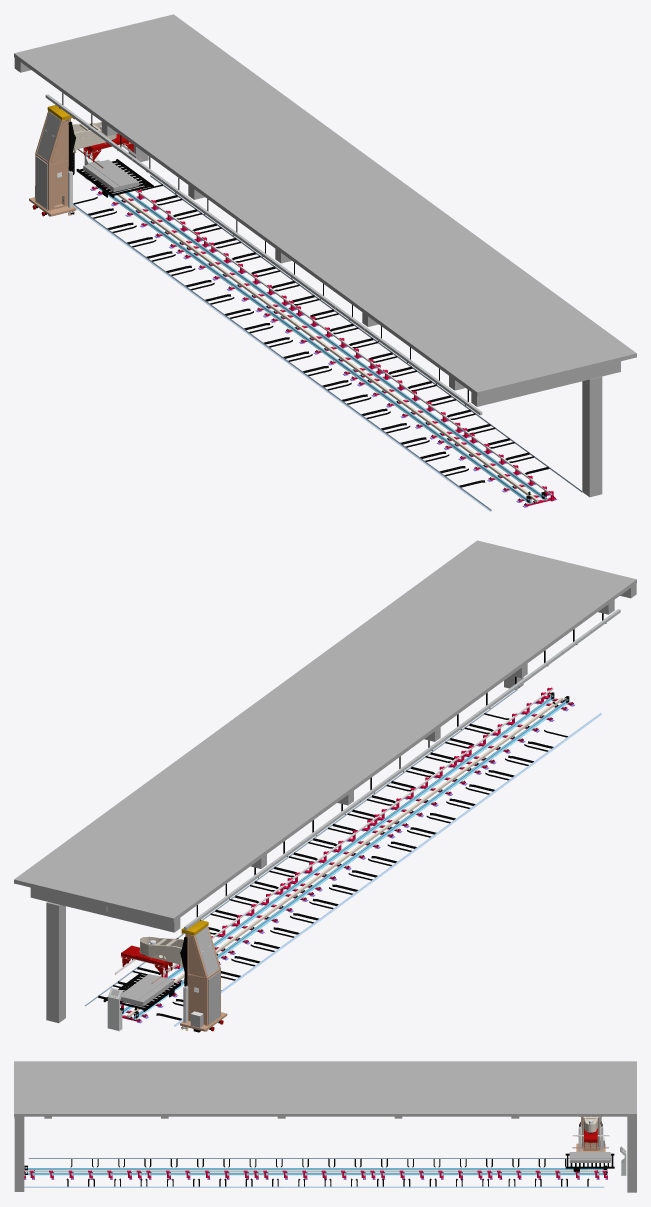
Rendered from GuidedRail.fbx.
3 views of the same model, one above another, from view 1: azimuth 30°, elevation 25°; view 2: azimuth 150°, elevation 25°; view 3: azimuth 270°, elevation 25° (orthographic). The views are drawn at different scales.
Visible parts, largest first — view 1: Body10, Body1_770, Body2_206, Rail 1, Rail 2, Body1_348, Body1_342, Body1_815, Body13_38, Body1_818; view 2: Body10, Body1_770, Body2_206, Rail 1, Rail 2, Body1_348, Body13_38, Body1_342, Body1_815; view 3: Body10, Body1_770, Rail 1, Rail 2, Body1_342, Body1_348, Body2_206, Body1_815, Body13_38, Body1_818.
Part boxes in pixels (<box>): Body10: <box>14,14,636,497</box>; Body1_770: <box>73,175,582,511</box>; Body2_206: <box>29,105,76,216</box>; Rail 1: <box>95,186,531,504</box>; Rail 2: <box>125,190,546,500</box>; Body1_348: <box>105,186,538,502</box>; Body1_342: <box>132,188,552,494</box>; Body1_815: <box>83,159,138,191</box>; Body13_38: <box>71,122,129,174</box>; Body1_818: <box>76,159,153,197</box>; Body10: <box>14,540,636,1023</box>; Body1_770: <box>84,689,602,1026</box>; Body2_206: <box>180,920,227,1032</box>; Rail 1: <box>133,699,569,1019</box>; Rail 2: <box>122,695,554,1014</box>; Body1_348: <box>126,697,564,1017</box>; Body13_38: <box>121,936,183,967</box>; Body1_342: <box>120,688,553,1006</box>; Body1_815: <box>120,974,173,1006</box>; Body10: <box>14,1061,636,1192</box>; Body1_770: <box>24,1158,604,1187</box>; Rail 1: <box>24,1168,607,1170</box>; Rail 2: <box>24,1173,607,1175</box>; Body1_342: <box>25,1171,602,1172</box>; Body1_348: <box>24,1170,607,1172</box>; Body2_206: <box>576,1117,605,1151</box>; Body1_815: <box>569,1152,610,1162</box>; Body13_38: <box>579,1116,601,1142</box>; Body1_818: <box>565,1153,614,1171</box>.
Bounding box in the file's own units: 677 × 510 × 3200.
